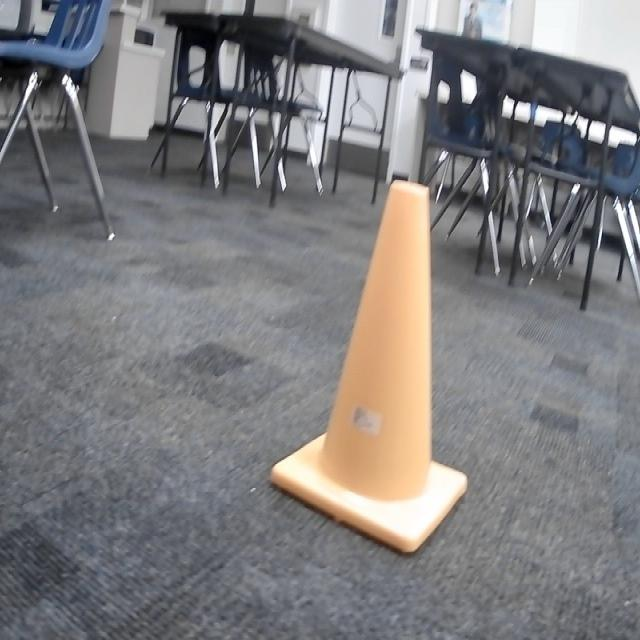cone: (268, 182, 468, 558)
